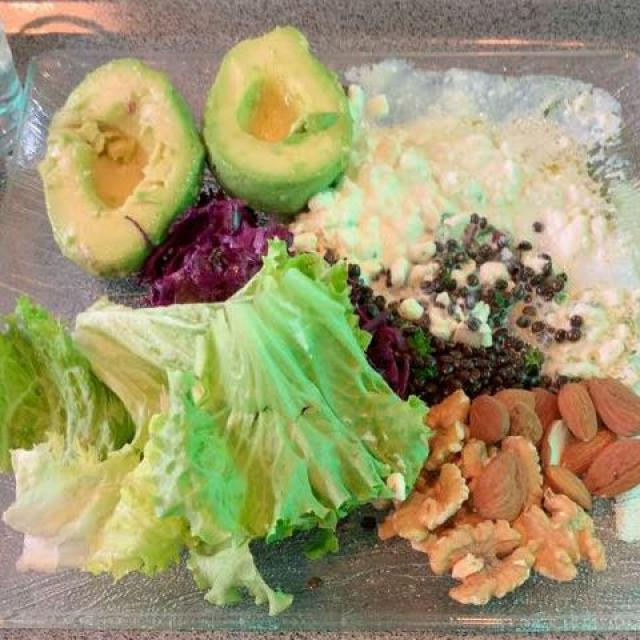almonds: (474, 378, 636, 488)
avocado: (33, 18, 343, 306)
cottage-cheese: (279, 130, 465, 272)
lentils: (362, 230, 567, 395)
red-cabbage: (121, 194, 303, 304)
salad-leaf-salad-green: (10, 246, 442, 563)
walnut: (375, 395, 596, 606)
